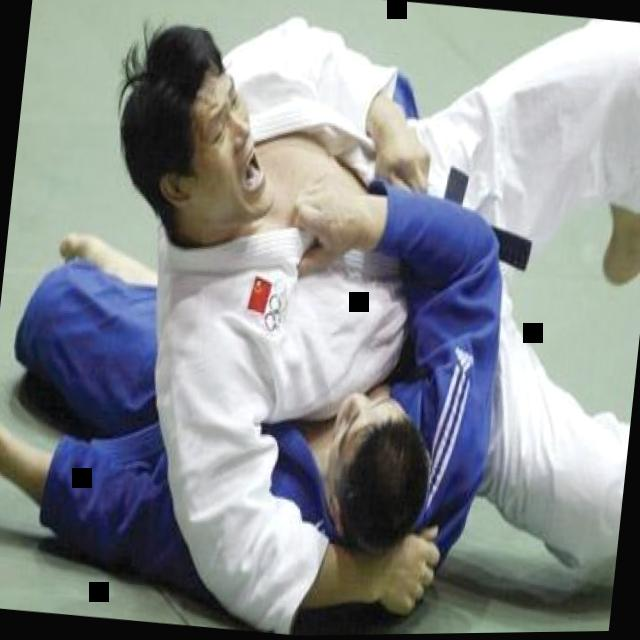Fall-Detected: (19, 0, 640, 640)
